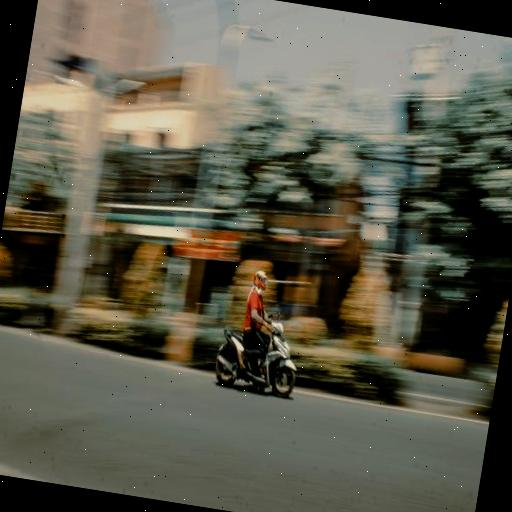helmet: (204, 233, 318, 404)
